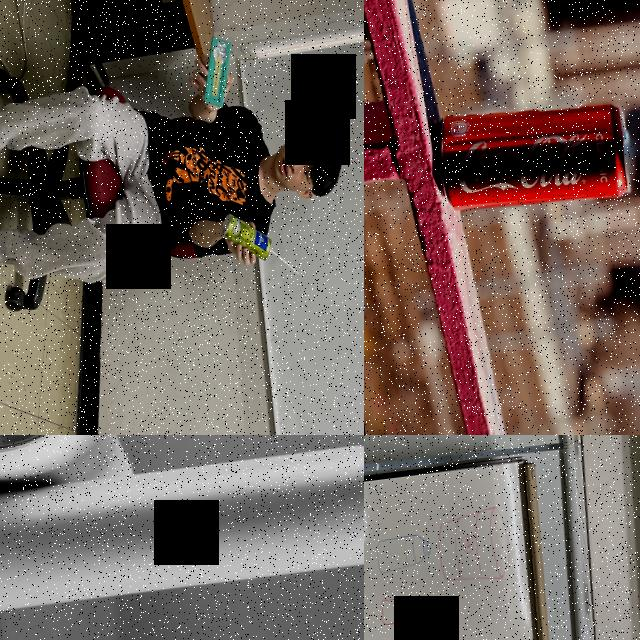can: (0, 440, 364, 620), (432, 94, 632, 219), (0, 435, 137, 502), (216, 209, 274, 265)
